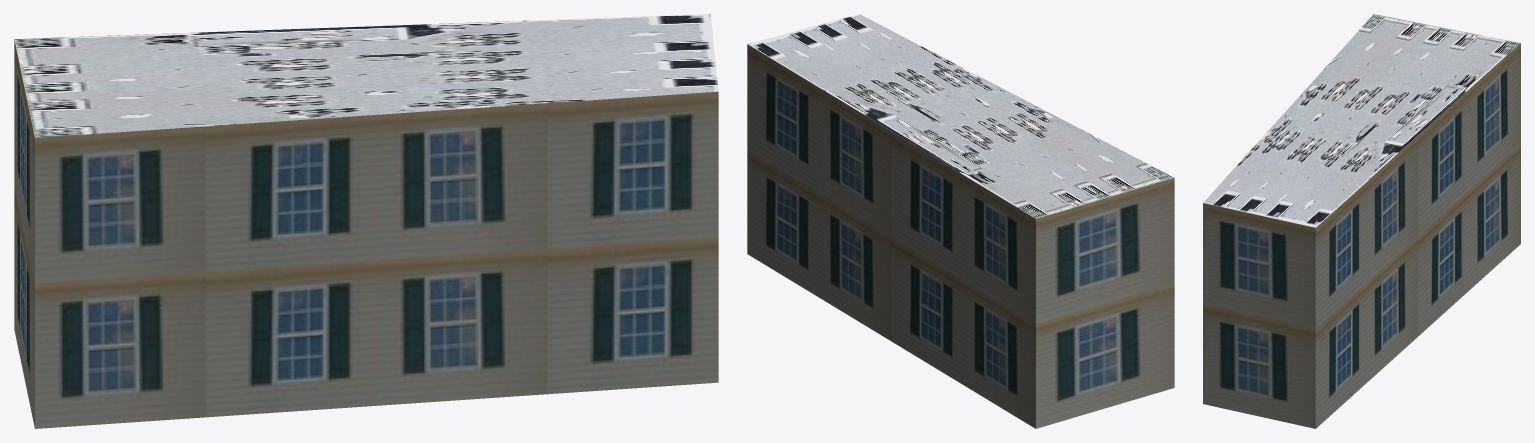
The model's file is ResTex__908.fbx.
The picture shows the model from 3 angles, left to right: view 1: azimuth 30°, elevation 25°; view 2: azimuth 150°, elevation 25°; view 3: azimuth 270°, elevation 25°; orthographic projection. The views are drawn at different scales.
Parts seen in each view (by area): view 1: CityEngineMaterial_7_m, CityEngineMaterial_m; view 2: CityEngineMaterial_7_m, CityEngineMaterial_m; view 3: CityEngineMaterial_7_m, CityEngineMaterial_m.
Boxes of the visible parts, <box> form: CityEngineMaterial_7_m: <box>14,39,718,428</box>; CityEngineMaterial_m: <box>14,14,718,137</box>; CityEngineMaterial_7_m: <box>747,44,1174,428</box>; CityEngineMaterial_m: <box>747,14,1174,218</box>; CityEngineMaterial_7_m: <box>1203,43,1520,428</box>; CityEngineMaterial_m: <box>1203,14,1520,227</box>.
Size of the model in its own units: 13.68 by 6 by 8.59.
2 materials, 2 textured.
